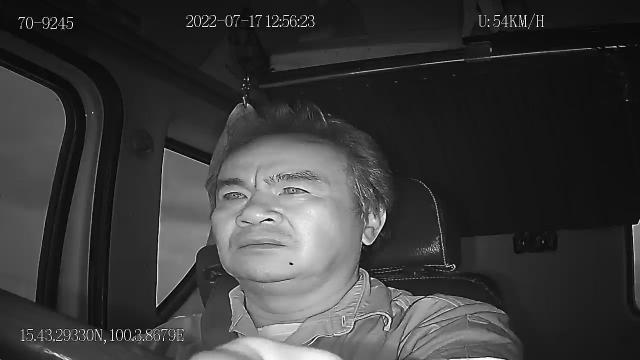SafeDriving: (270, 174, 320, 203), (214, 180, 254, 207)
Seatbelt: (200, 274, 240, 352)
